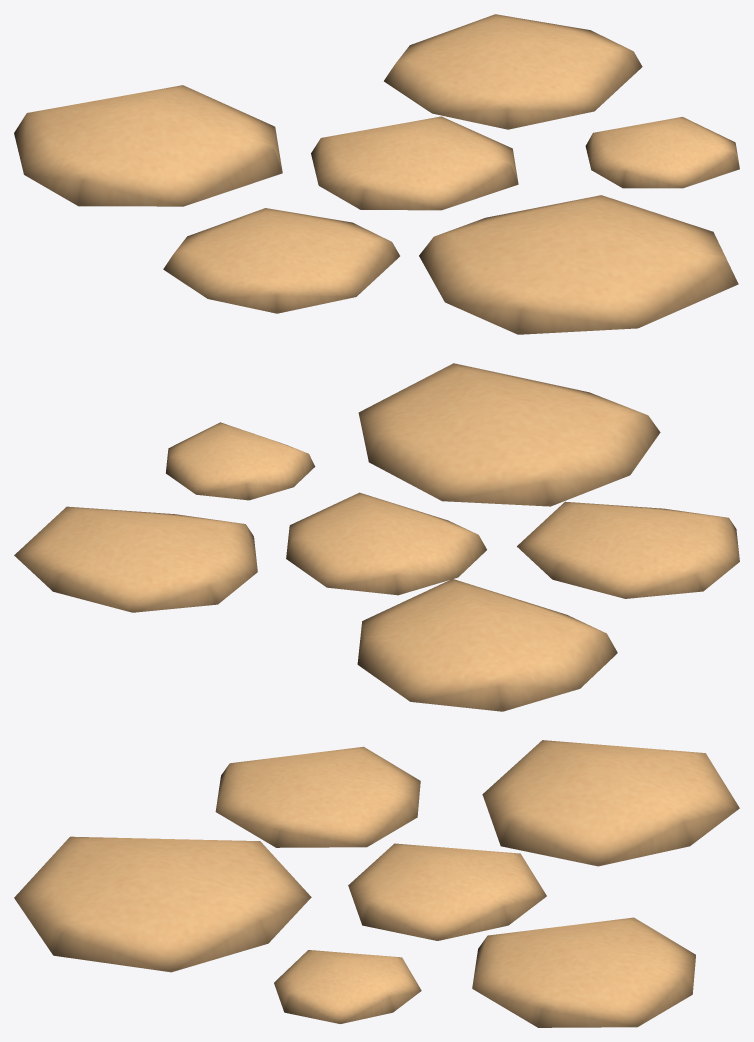
Rendered from stone_path.fbx.
The picture shows the model from 3 angles, top to bottom: view 1: azimuth 30°, elevation 25°; view 2: azimuth 150°, elevation 25°; view 3: azimuth 270°, elevation 25°; orthographic projection. The views are drawn at different scales.
Visible parts, largest first — view 1: stone_path; view 2: stone_path; view 3: stone_path.
Boxes of the visible parts, <box> form: stone_path: <box>14,14,739,334</box>; stone_path: <box>14,363,739,711</box>; stone_path: <box>14,740,739,1027</box>.
Size of the model in its own units: 2.14 by 0.1639 by 2.39.
Materials: 1 (1 with a texture image).
